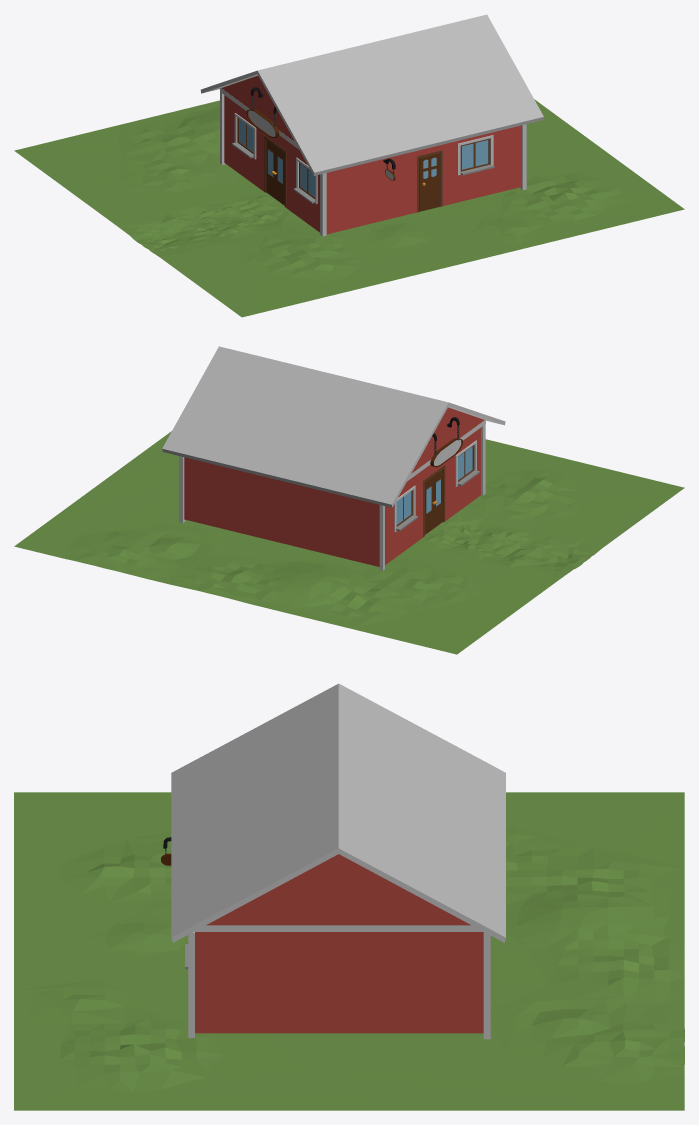
3 views of the same model, one above another, from view 1: azimuth 30°, elevation 25°; view 2: azimuth 150°, elevation 25°; view 3: azimuth 270°, elevation 25° (orthographic). The views are drawn at different scales.
Parts seen in each view (by area): view 1: scene 1, Cube.066, Room, Cube.008, Door, Cube, Cube.005, Cube.006, Door.001, Door.002, Cube.059; view 2: scene 1, Cube.066, Room, Cube.008, Door.001, Cube.005, Cube.006, Cube.059, Door.002; view 3: scene 1, Cube.066, Room, Cube.008.
Boxes of the visible parts, left/top/right/bottom form: scene 1: left=14, top=99, right=684, bottom=317; Cube.066: left=200, top=14, right=543, bottom=175; Room: left=224, top=95, right=521, bottom=234; Cube.008: left=220, top=88, right=526, bottom=236; Door: left=419, top=153, right=439, bottom=211; Cube: left=460, top=138, right=494, bottom=175; Cube.005: left=293, top=162, right=315, bottom=203; Cube.006: left=232, top=118, right=253, bottom=158; Door.001: left=273, top=147, right=284, bottom=205; Door.002: left=266, top=140, right=275, bottom=198; Cube.059: left=246, top=109, right=279, bottom=137; scene 1: left=14, top=431, right=684, bottom=654; Cube.066: left=162, top=346, right=505, bottom=507; Room: left=184, top=428, right=480, bottom=566; Cube.008: left=179, top=420, right=485, bottom=570; Door.001: left=433, top=469, right=443, bottom=528; Cube.005: left=457, top=445, right=479, bottom=486; Cube.006: left=396, top=490, right=418, bottom=531; Cube.059: left=430, top=438, right=462, bottom=467; Door.002: left=425, top=476, right=435, bottom=534; scene 1: left=14, top=792, right=684, bottom=1110; Cube.066: left=171, top=683, right=505, bottom=942; Room: left=195, top=932, right=483, bottom=1033; Cube.008: left=188, top=925, right=490, bottom=1039.
Size of the model in its own units: 1731 by 520 by 1542.
